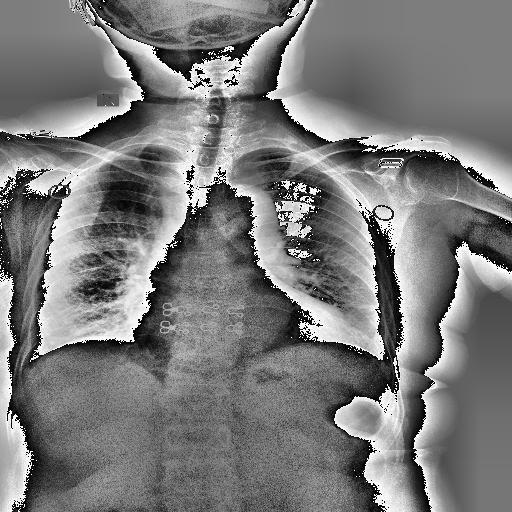0- Aortic enlargement: (211, 184, 284, 254), (214, 182, 284, 248), (214, 184, 276, 238)
3- Cardiomegaly: (129, 302, 345, 346), (128, 309, 348, 346), (122, 309, 346, 340)
